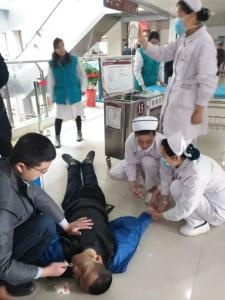falling: (56, 150, 120, 295)
